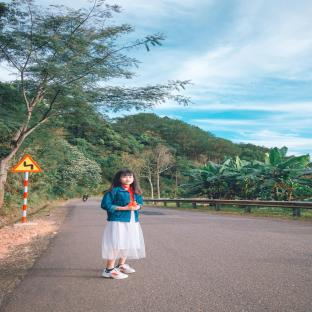Human: (101, 169, 145, 279)
